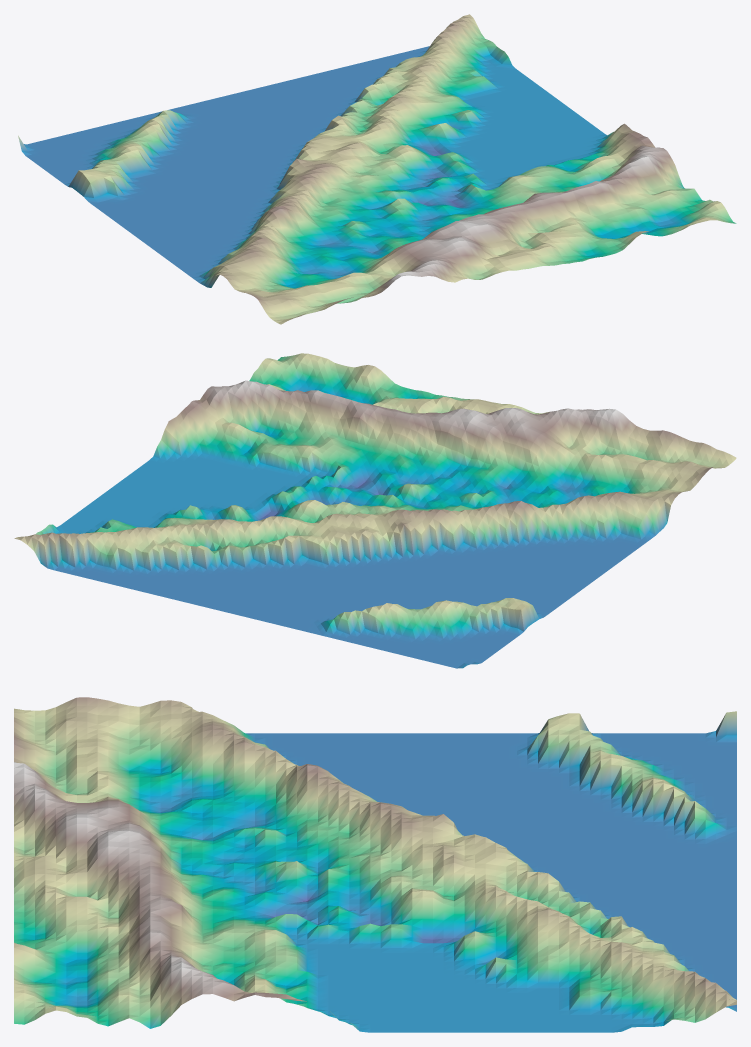
File: 000555_terrain_only.glb
3 views of the same model, one above another, from view 1: azimuth 30°, elevation 25°; view 2: azimuth 150°, elevation 25°; view 3: azimuth 270°, elevation 25° (orthographic). The views are drawn at different scales.
Parts seen in each view (by area): view 1: terrain; view 2: terrain; view 3: terrain.
Part boxes in pixels (x1,y1,x2,y2): terrain: (18,14,736,324); terrain: (14,353,736,668); terrain: (14,697,736,1032).
Size of the model in its own units: 0.0183 by 0.00155 by 0.0186.
